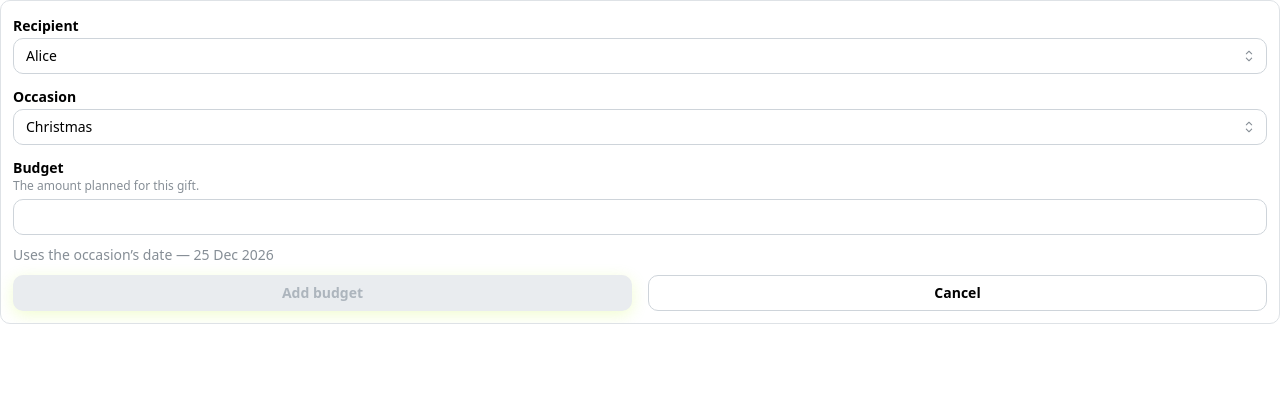
Test: GiftBudgetForm › offers a per-gift date only when the chosen occasion has no date of its own
This screenshot has width=1280, height=401.
expect the text "Uses the occasion’s date — 25 Dec 2026" is shown: met, box [13,245,274,264]
Click the dropdown labelled "Occasion". click: [640, 127]
box: [13,109,1267,145]
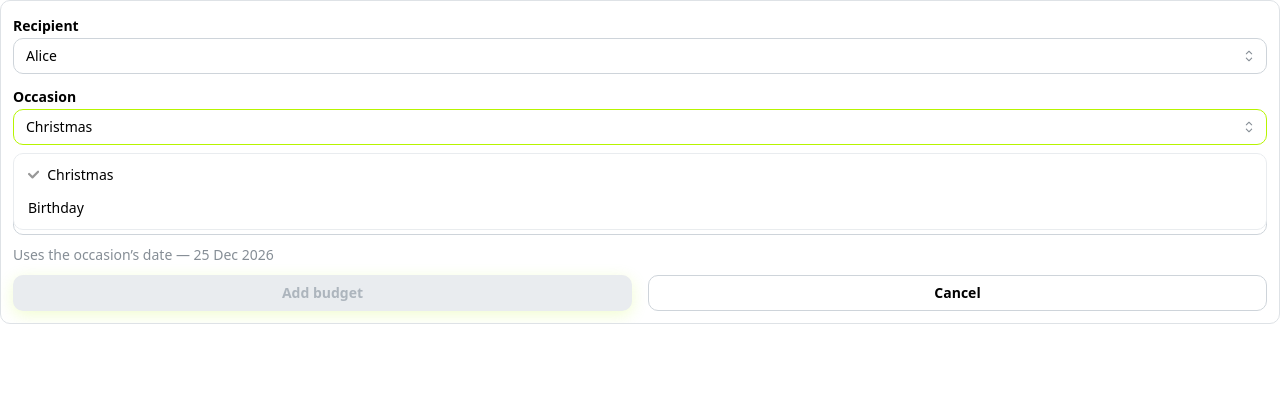
Click the option "Birthday". click: [56, 208]
box: [28,198,84,217]
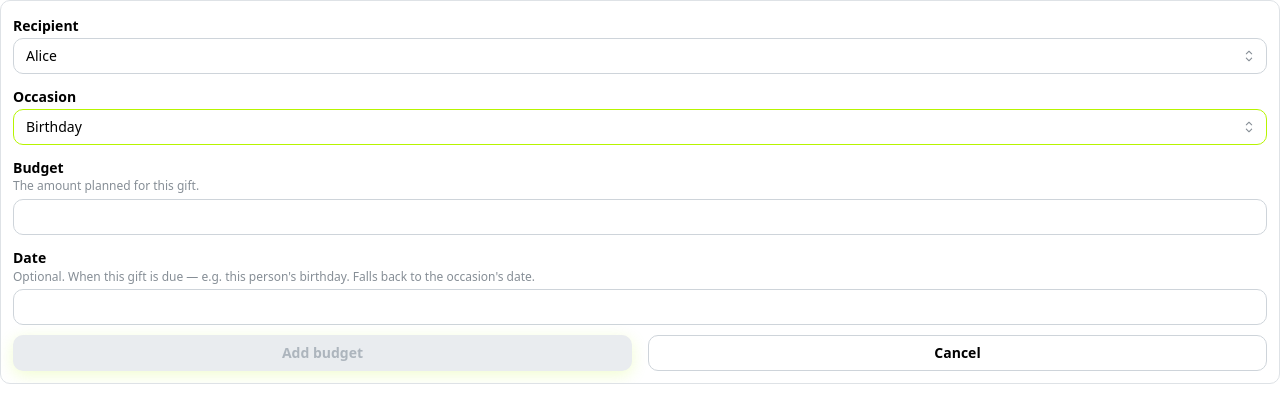
expect the field labelled "Date" is shown: met, box [13,289,1267,325]
expect the text "Uses the occasion’s date" is gone: met
